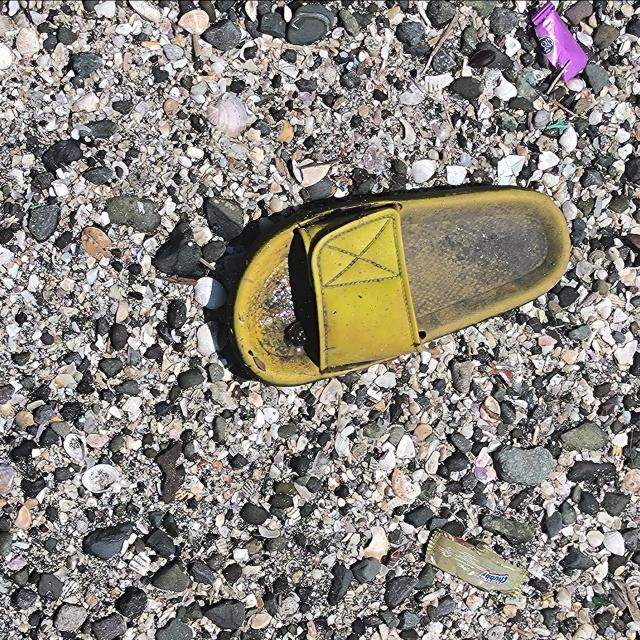plastic_waste: (424, 528, 528, 600), (531, 2, 590, 85)
rubber_waste: (234, 189, 574, 387)
